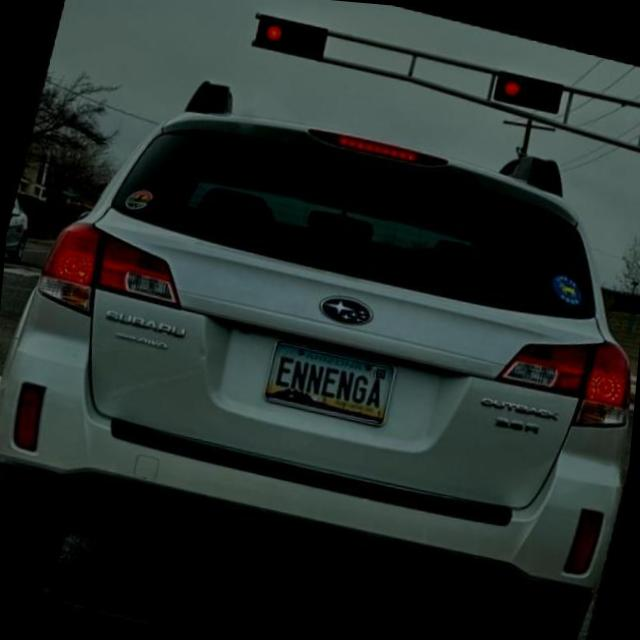LicensePlate: (258, 336, 397, 425)
